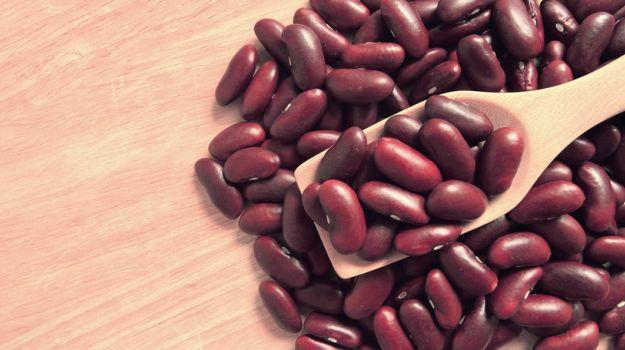rajma: (308, 69, 624, 350)
